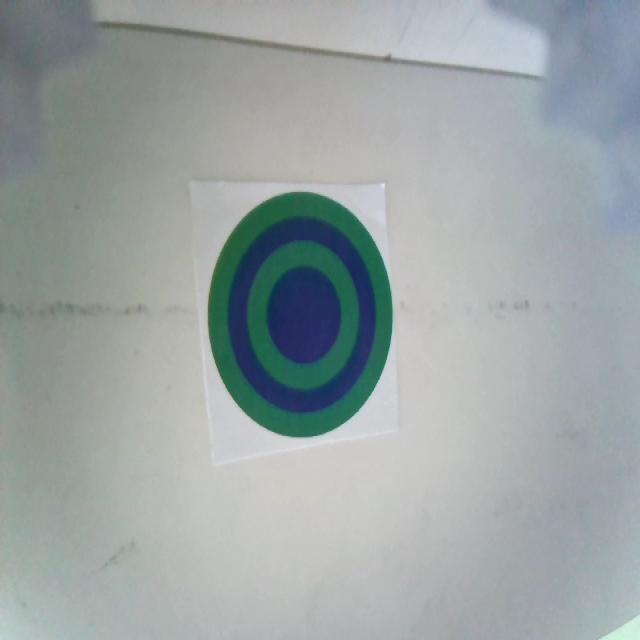cogn: (207, 191, 392, 439)
